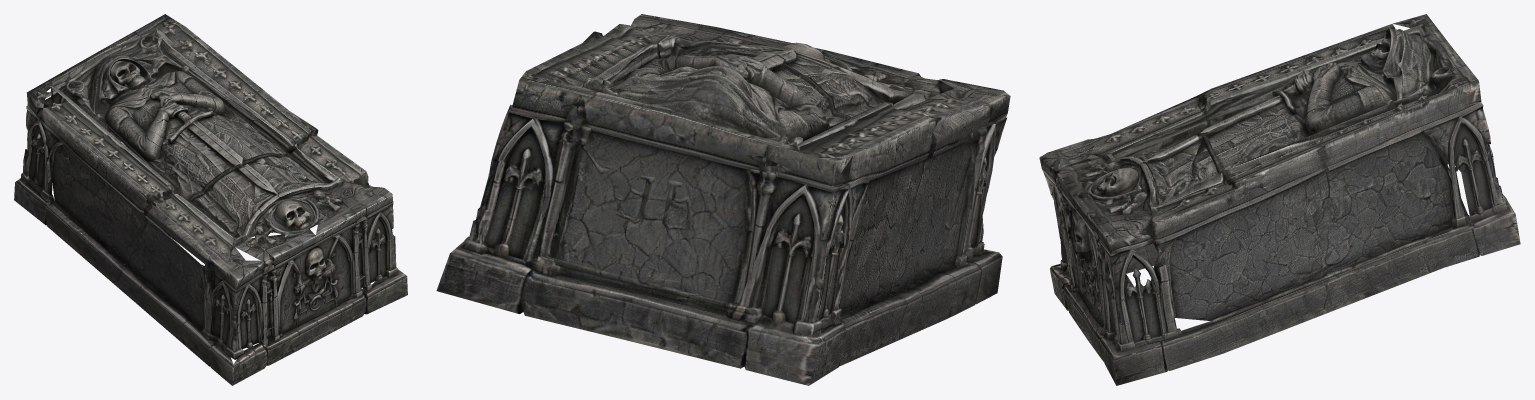
Rendered from source.glb.
3 views of the same model, side by side, from view 1: azimuth 30°, elevation 25°; view 2: azimuth 150°, elevation 25°; view 3: azimuth 270°, elevation 25° (orthographic). The views are drawn at different scales.
Visible parts, largest first — view 1: tripo_node_5e263ccc-7bd4-4b87-b708-b3f8543cc84a; view 2: tripo_node_5e263ccc-7bd4-4b87-b708-b3f8543cc84a; view 3: tripo_node_5e263ccc-7bd4-4b87-b708-b3f8543cc84a.
Part boxes in pixels (x1,y1,x2,y2): tripo_node_5e263ccc-7bd4-4b87-b708-b3f8543cc84a: (14, 14, 407, 385); tripo_node_5e263ccc-7bd4-4b87-b708-b3f8543cc84a: (436, 14, 1010, 385); tripo_node_5e263ccc-7bd4-4b87-b708-b3f8543cc84a: (1039, 14, 1520, 385).
Bounding box in the file's own units: 0.769 × 0.6362 × 0.9995.
1 material, 1 textured.
